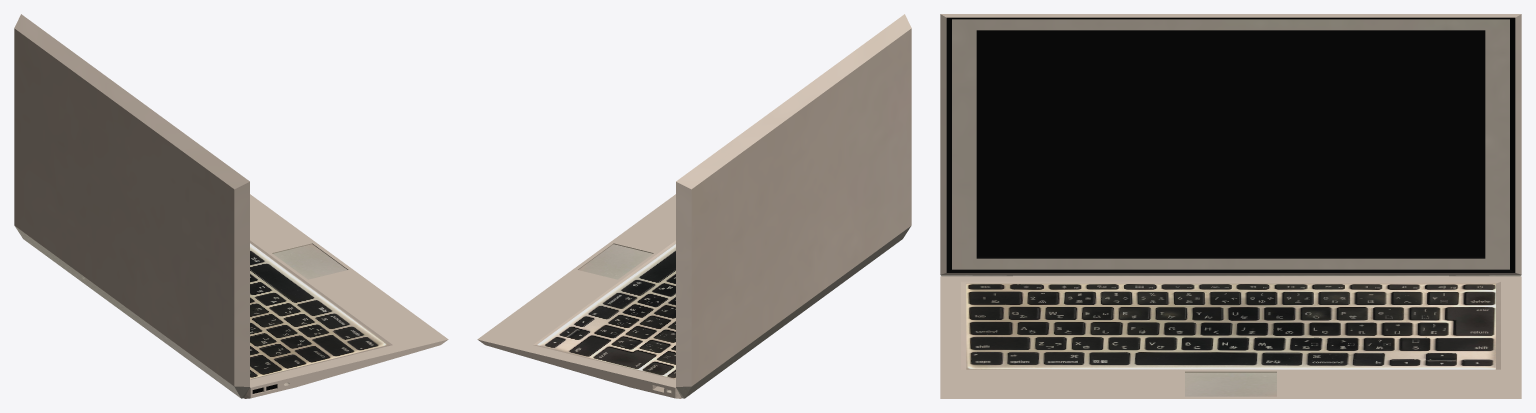
File: PCmodelkanryou3.fbx
The picture shows the model from 3 angles, left to right: view 1: azimuth 30°, elevation 25°; view 2: azimuth 150°, elevation 25°; view 3: azimuth 270°, elevation 25°; orthographic projection. The views are drawn at different scales.
Parts seen in each view (by area): view 1: Plane; view 2: Plane; view 3: Plane.
Part boxes in pixels (box(x1,y1,x2,y2)): Plane: box(14, 14, 448, 398); Plane: box(477, 14, 911, 398); Plane: box(940, 14, 1521, 398).
Size of the model in its own units: 106 by 107 by 200.
1 material, 1 textured.
